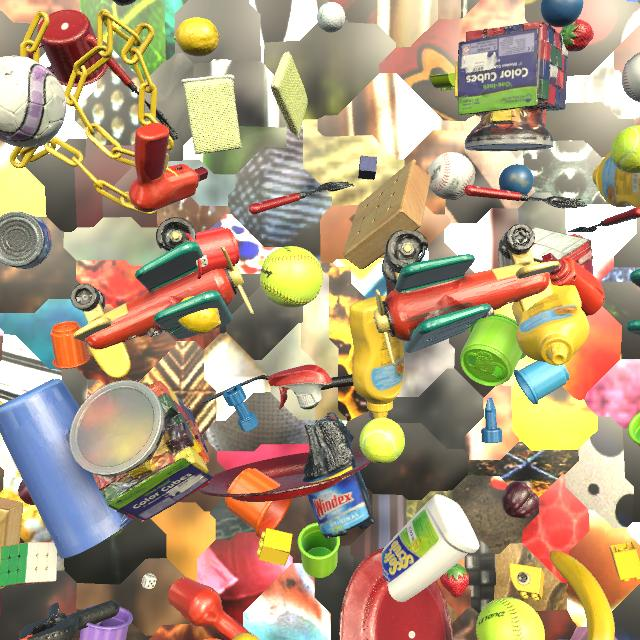ycb_006_mustard_bottle: (349, 295, 405, 419), (512, 285, 590, 365), (592, 152, 640, 208)
ycb_007_tuna_fish_can: (0, 212, 52, 269)
ycb_008_pudding_box: (498, 227, 593, 268)
ycb_011_banana: (549, 550, 615, 640)
ycb_012_strawberry: (560, 19, 594, 52), (440, 564, 469, 598)
ycb_014_lemon: (174, 17, 219, 57), (178, 296, 221, 334), (232, 633, 260, 640), (0, 401, 4, 405)
ycb_016_pear: (106, 527, 125, 540)
ycb_018_plum: (502, 481, 540, 518), (18, 480, 35, 505), (112, 0, 136, 6)
